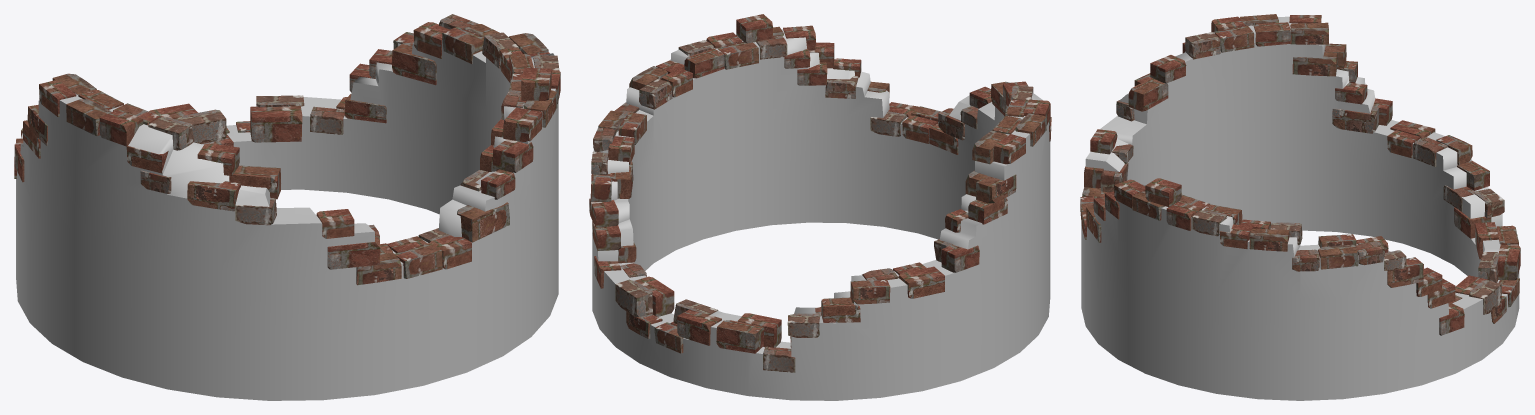
The model's file is SM_Round_Tower_Ruined_Top_01.fbx.
The picture shows the model from 3 angles, left to right: view 1: azimuth 30°, elevation 25°; view 2: azimuth 150°, elevation 25°; view 3: azimuth 270°, elevation 25°; orthographic projection. The views are drawn at different scales.
Visible parts, largest first — view 1: SM_Round_Tower_Ruined_Top_01_LOD0; view 2: SM_Round_Tower_Ruined_Top_01_LOD0; view 3: SM_Round_Tower_Ruined_Top_01_LOD0.
Boxes of the visible parts, box(x1,y1,x2,y2) form: SM_Round_Tower_Ruined_Top_01_LOD0: box(14, 14, 560, 400); SM_Round_Tower_Ruined_Top_01_LOD0: box(589, 14, 1051, 400); SM_Round_Tower_Ruined_Top_01_LOD0: box(1080, 14, 1520, 400).
Size of what is drawn, in the model's own units: 783 by 400 by 785.
